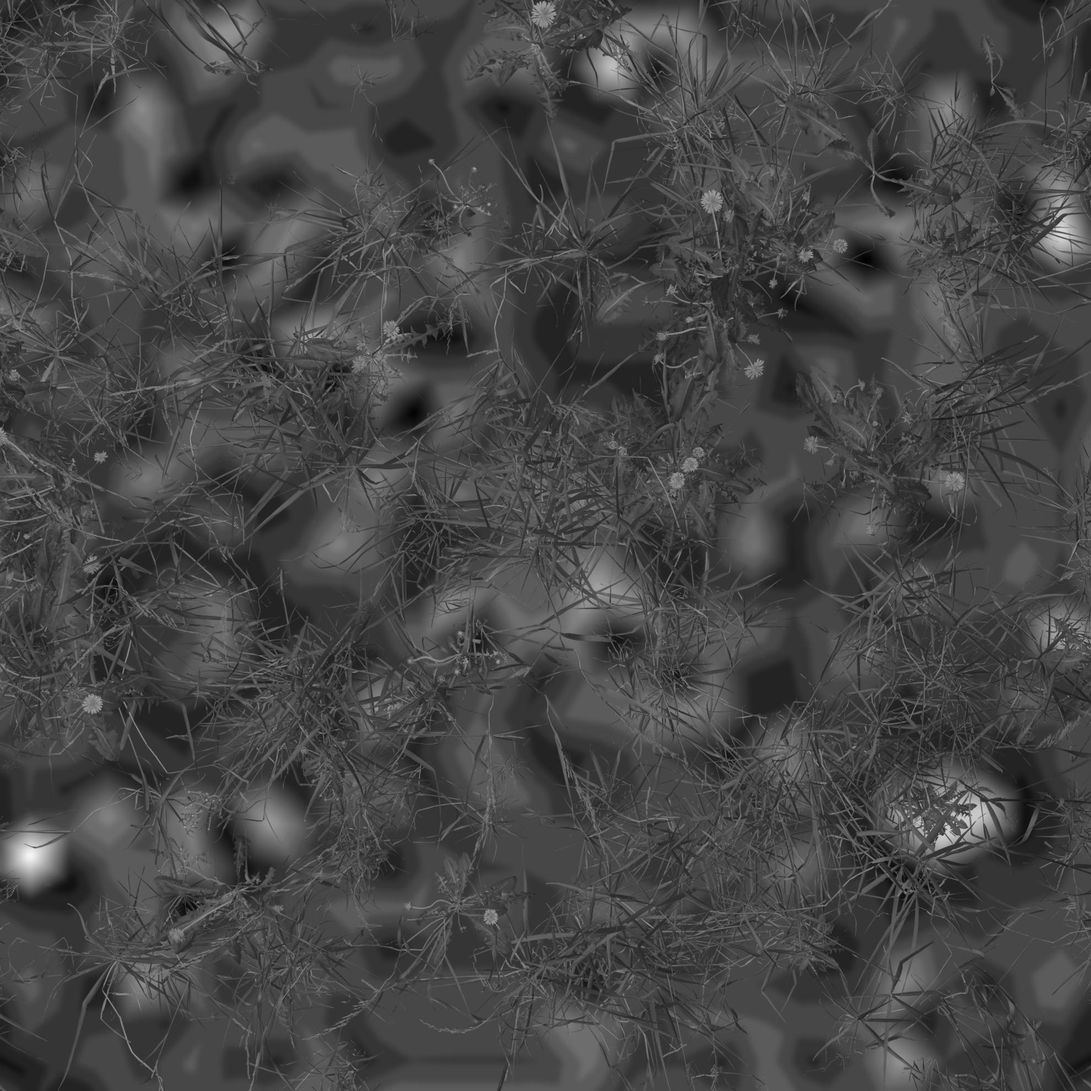landmine: (80, 527, 299, 741), (837, 709, 1063, 912), (512, 238, 745, 405)
